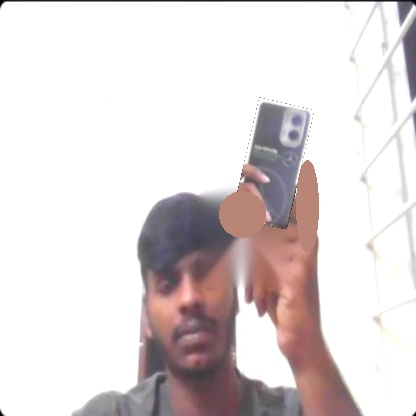cell_phone: (231, 97, 314, 229)
